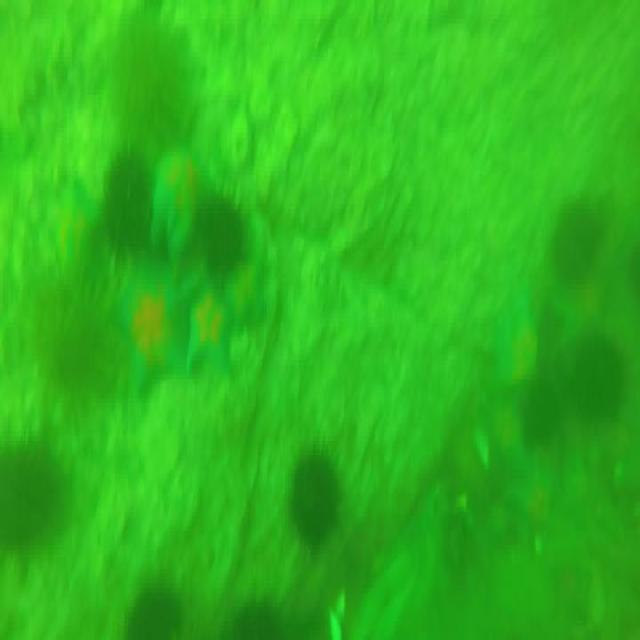echinus: (109, 12, 193, 140), (2, 430, 66, 547), (101, 150, 151, 262), (569, 324, 626, 414), (287, 448, 336, 544), (194, 188, 244, 278), (554, 198, 605, 284), (122, 584, 184, 640), (518, 376, 563, 444)
starfish: (111, 253, 195, 384), (184, 283, 242, 381)
